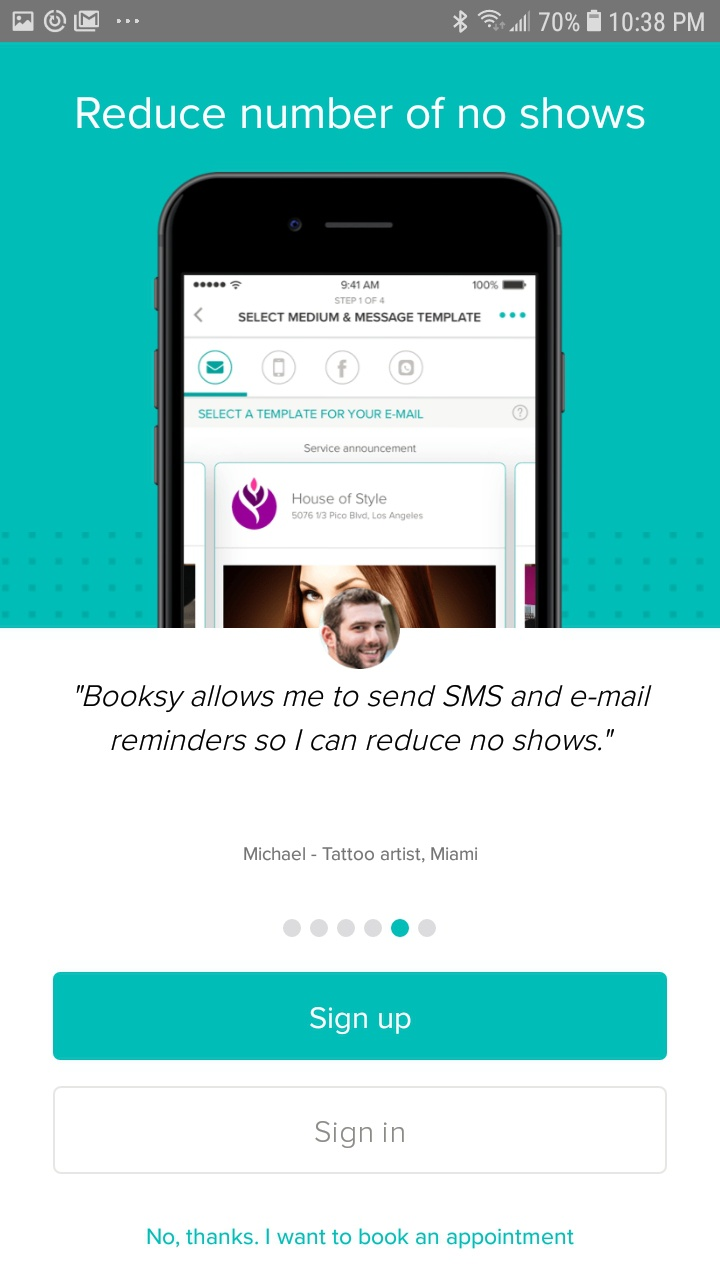Image: (154, 172, 566, 629), (319, 587, 402, 670)
PageIndicator: (283, 918, 437, 938)
Text: (77, 684, 652, 752), (76, 97, 645, 131), (148, 1227, 575, 1249), (244, 846, 478, 863)
TextButton: (53, 1086, 667, 1175), (54, 972, 668, 1061)
UpperTaskBar: (1, 1, 720, 43)
